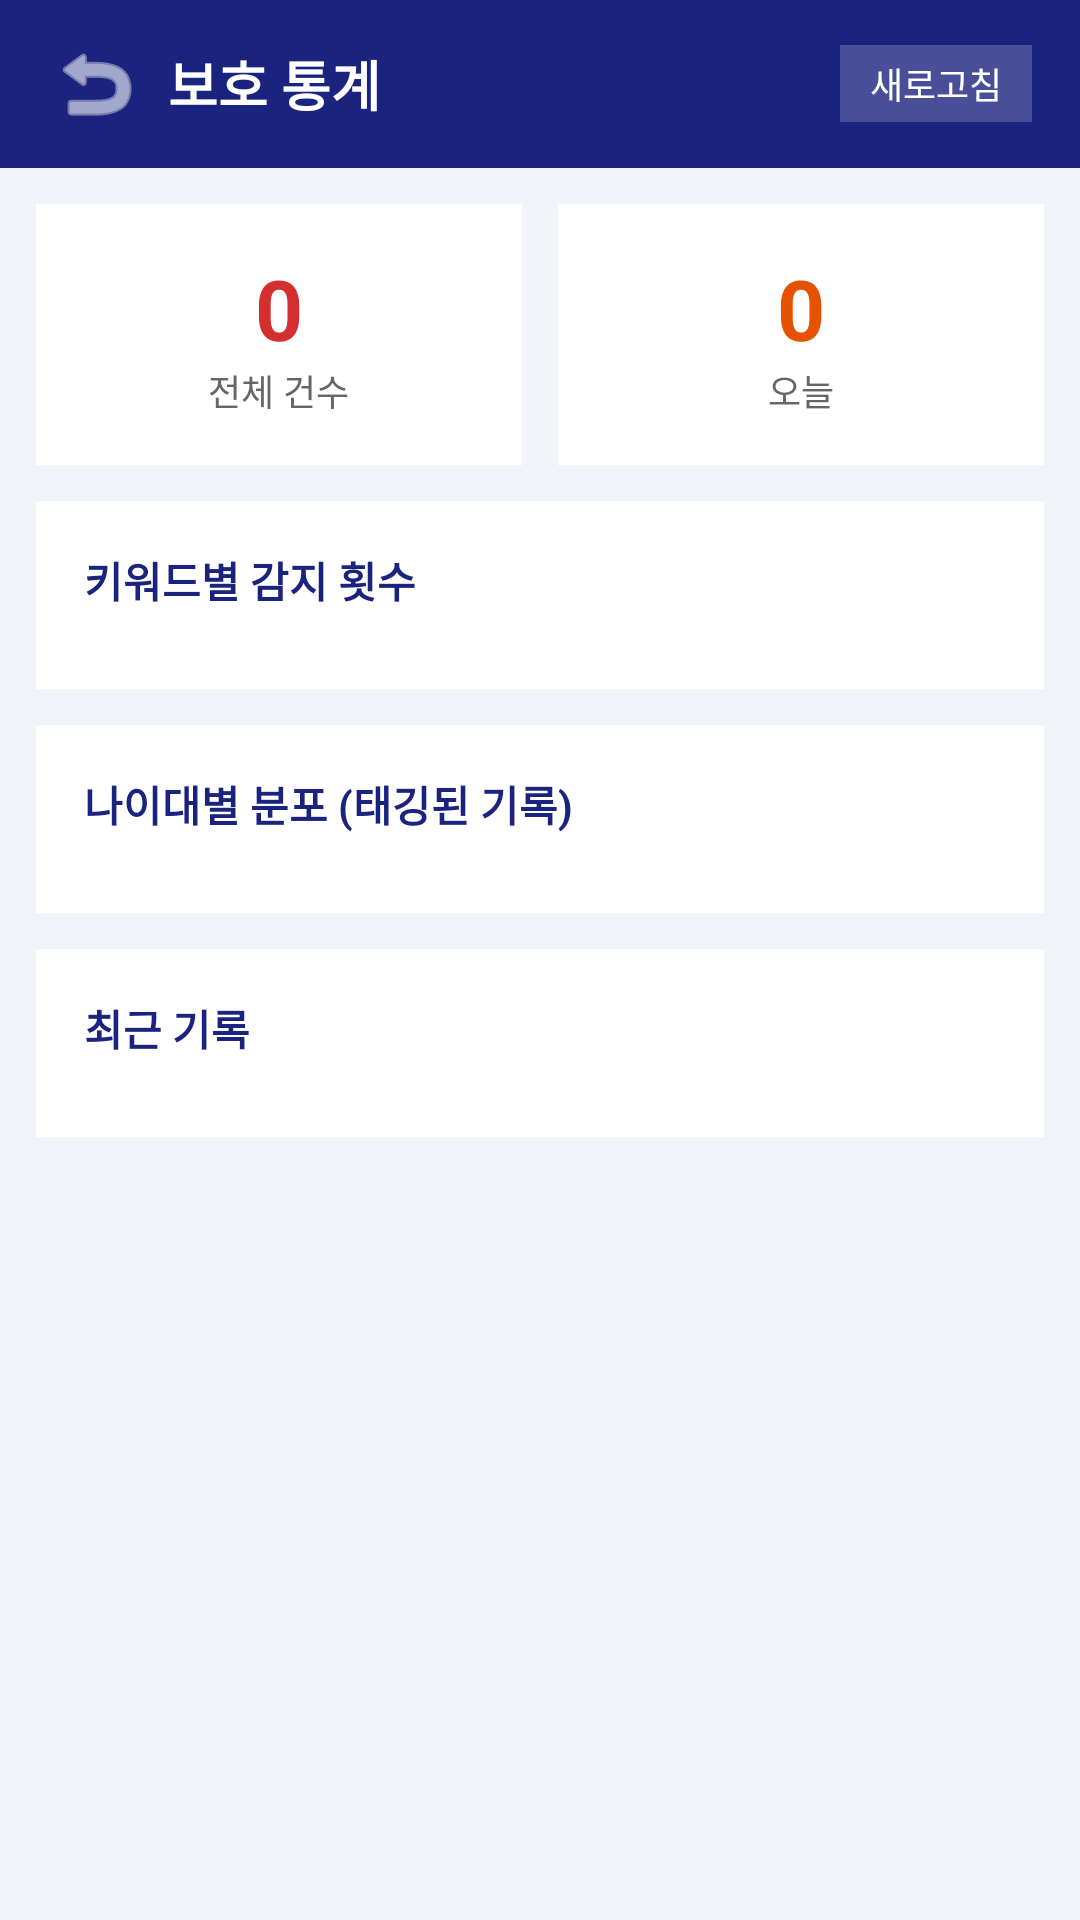

Named icons in this screenshot (1080w x 1920h) and their bounding boxes, bbox=(x1, y1, x2, y2):
뒤로가기: bbox=(63, 53, 132, 116)
